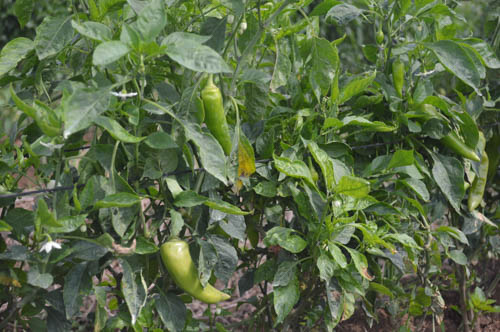ChiliPepper: (158, 239, 225, 304), (197, 86, 235, 150)
